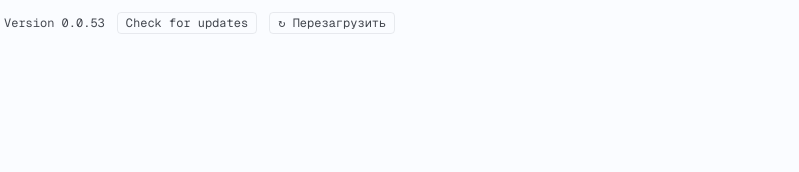
Scenario: VersionStatus › surfaces an error when the check fails
Click the button "Check for updates" at coordinates (187, 23), box [117,12,257,34]
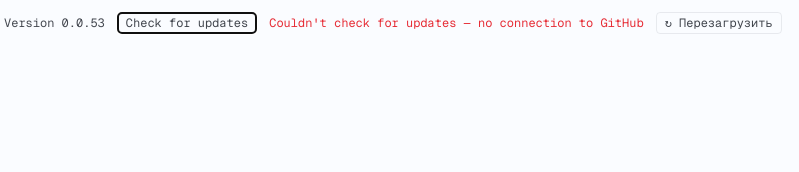
Expected: the text "Couldn't check for updates — no connection to GitHub" is shown, [269,15,644,31]
